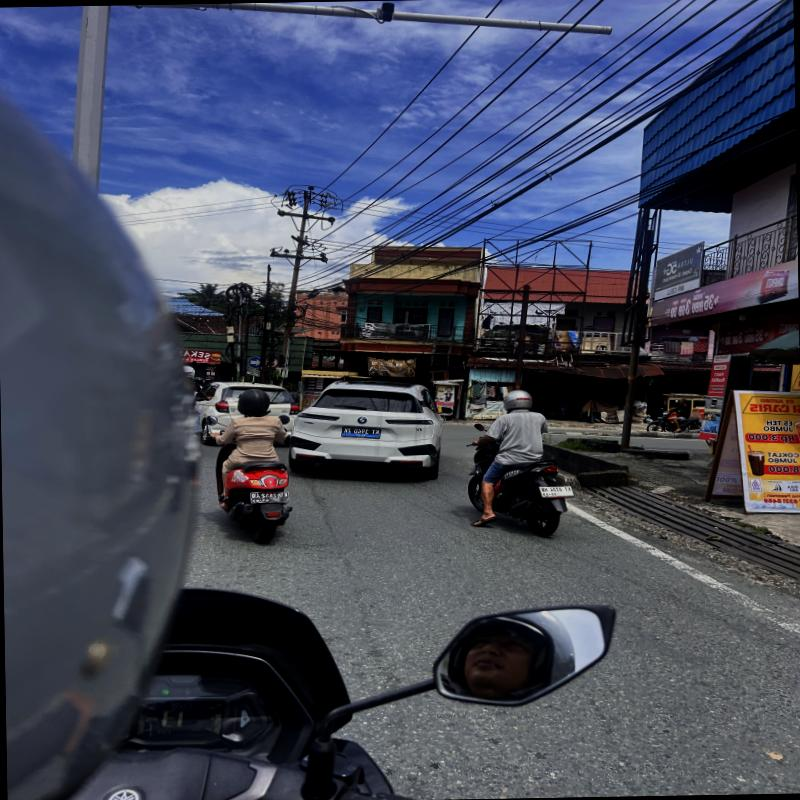license plate on a car: (341, 426, 380, 438)
